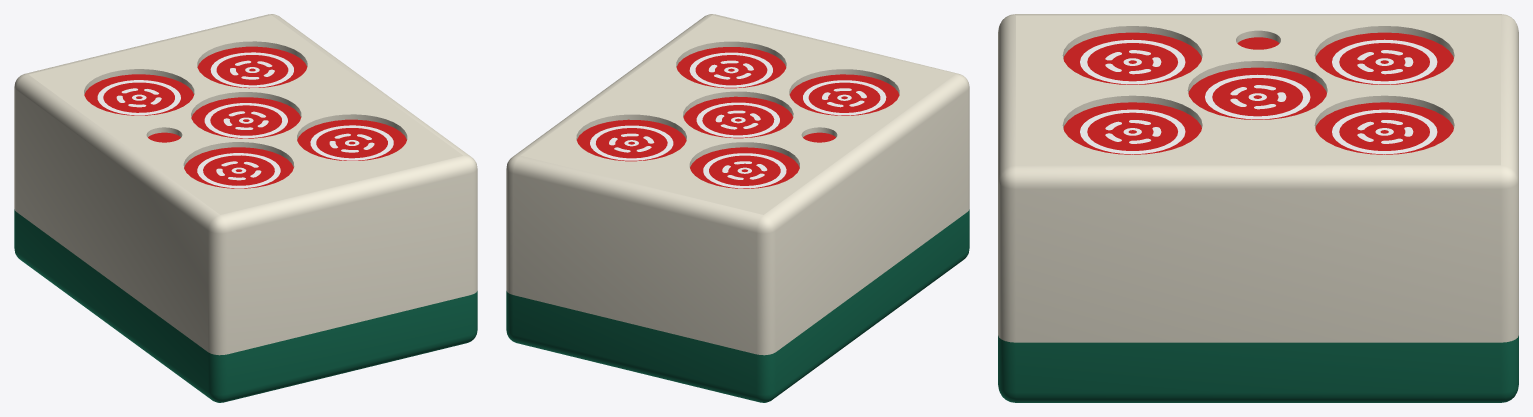
The model's file is Pin5-Dora.glb.
3 views of the same model, side by side, from view 1: azimuth 30°, elevation 25°; view 2: azimuth 150°, elevation 25°; view 3: azimuth 270°, elevation 25° (orthographic). The views are drawn at different scales.
Parts seen in each view (by area): view 1: Pin5-Dora_body, Pin5-Dora_inset; view 2: Pin5-Dora_body, Pin5-Dora_inset; view 3: Pin5-Dora_body, Pin5-Dora_inset.
Boxes of the visible parts, x1,y1,x2,y2 form: Pin5-Dora_body: (14, 14, 477, 402); Pin5-Dora_inset: (84, 46, 406, 188); Pin5-Dora_body: (506, 14, 969, 402); Pin5-Dora_inset: (576, 47, 899, 188); Pin5-Dora_body: (998, 14, 1518, 402); Pin5-Dora_inset: (1063, 32, 1453, 154).
Bounding box in the file's own units: 0.024 × 0.016 × 0.032.
